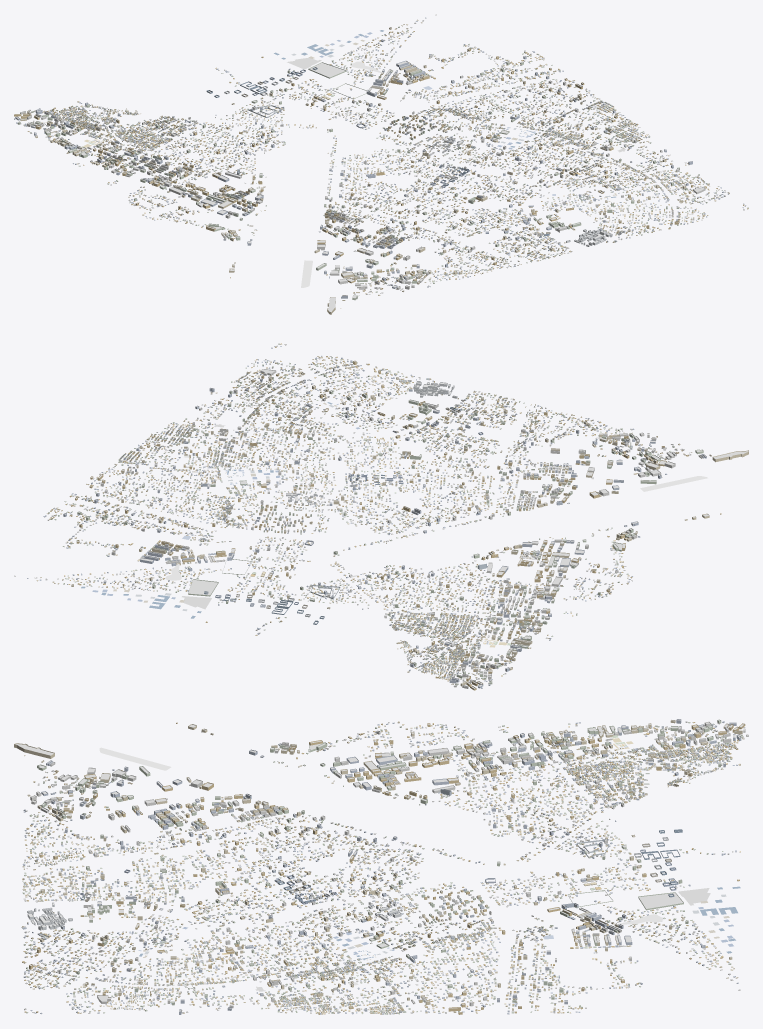
3 views of the same model, one above another, from view 1: azimuth 30°, elevation 25°; view 2: azimuth 150°, elevation 25°; view 3: azimuth 270°, elevation 25° (orthographic). The views are drawn at different scales.
Parts seen in each view (by area): view 1: house, apartment, roof_zinc, roof_flat, factory, shop; view 2: house, apartment, roof_zinc, roof_flat, factory, shop; view 3: house, apartment, roof_zinc, roof_flat, factory, shop, parking.
Part boxes in pixels (x1=…): house: x1=14, y1=15, x2=748, y2=308; apartment: x1=14, y1=27, x2=709, y2=314; roof_zinc: x1=14, y1=14, x2=748, y2=295; roof_flat: x1=14, y1=28, x2=708, y2=312; factory: x1=206, y1=67, x2=550, y2=237; shop: x1=102, y1=83, x2=649, y2=196; house: x1=14, y1=343, x2=721, y2=688; apartment: x1=63, y1=360, x2=748, y2=690; roof_zinc: x1=14, y1=343, x2=720, y2=687; roof_flat: x1=64, y1=361, x2=748, y2=688; factory: x1=204, y1=407, x2=483, y2=624; shop: x1=161, y1=402, x2=543, y2=625; house: x1=21, y1=721, x2=741, y2=1014; apartment: x1=14, y1=719, x2=748, y2=1014; roof_zinc: x1=22, y1=721, x2=740, y2=1013; roof_flat: x1=15, y1=719, x2=748, y2=1013; factory: x1=80, y1=829, x2=682, y2=903; shop: x1=149, y1=732, x2=613, y2=1001; parking: x1=99, y1=747, x2=663, y2=985.
Size of the model in its own units: 1.4e+08 by 941558 by 1.48e+08.
